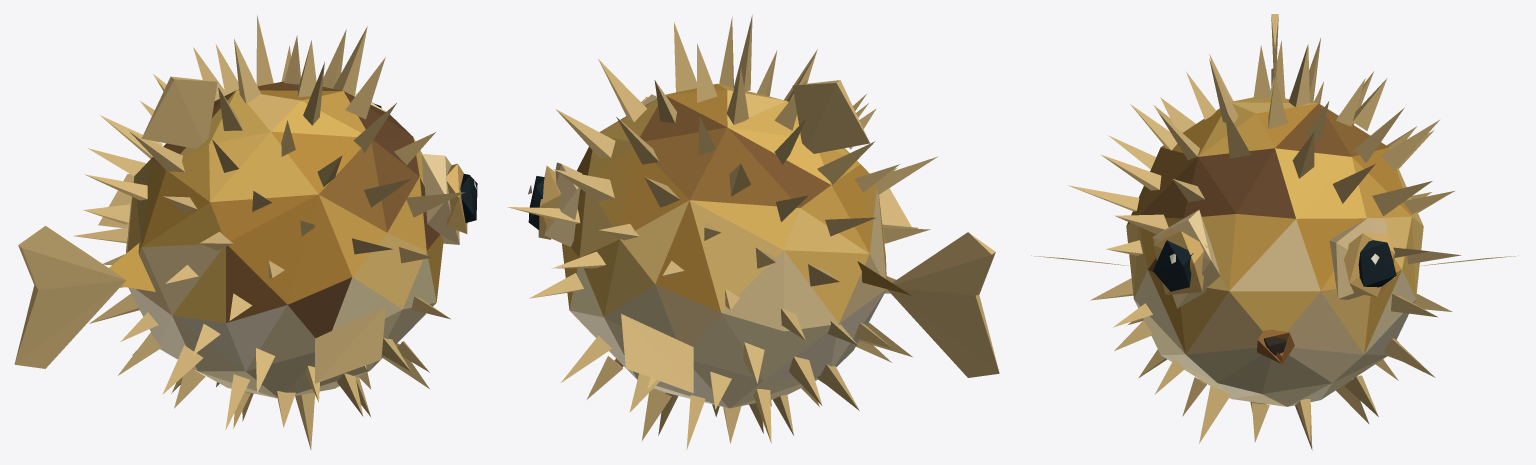
File: SM_Pufferfish_Spiny_500.fbx
The picture shows the model from 3 angles, left to right: view 1: azimuth 30°, elevation 25°; view 2: azimuth 150°, elevation 25°; view 3: azimuth 270°, elevation 25°; orthographic projection. The views are drawn at different scales.
Parts seen in each view (by area): view 1: SM_Pufferfish_Spiny_500; view 2: SM_Pufferfish_Spiny_500; view 3: SM_Pufferfish_Spiny_500.
Boxes of the visible parts, x1,y1,x2,y2 form: SM_Pufferfish_Spiny_500: (14, 15, 477, 449); SM_Pufferfish_Spiny_500: (507, 14, 999, 449); SM_Pufferfish_Spiny_500: (1031, 14, 1518, 450).
Bounding box in the file's own units: 148 × 156 × 130.
1 material, 1 textured.
